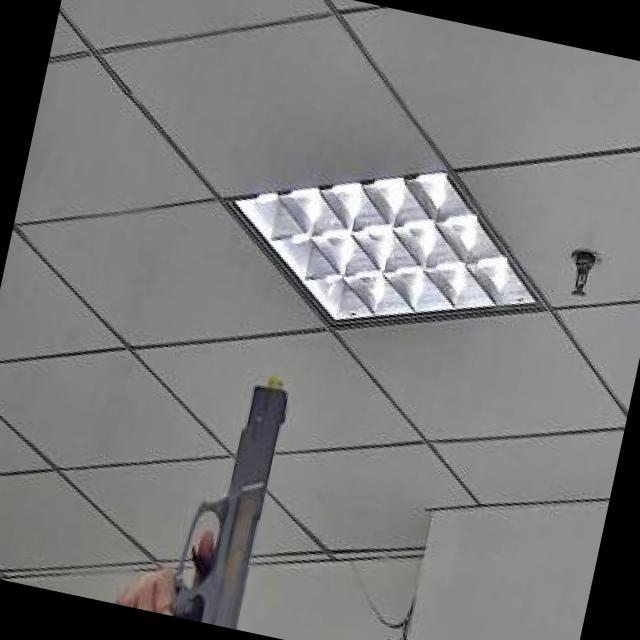Guns: (81, 323, 335, 638)
